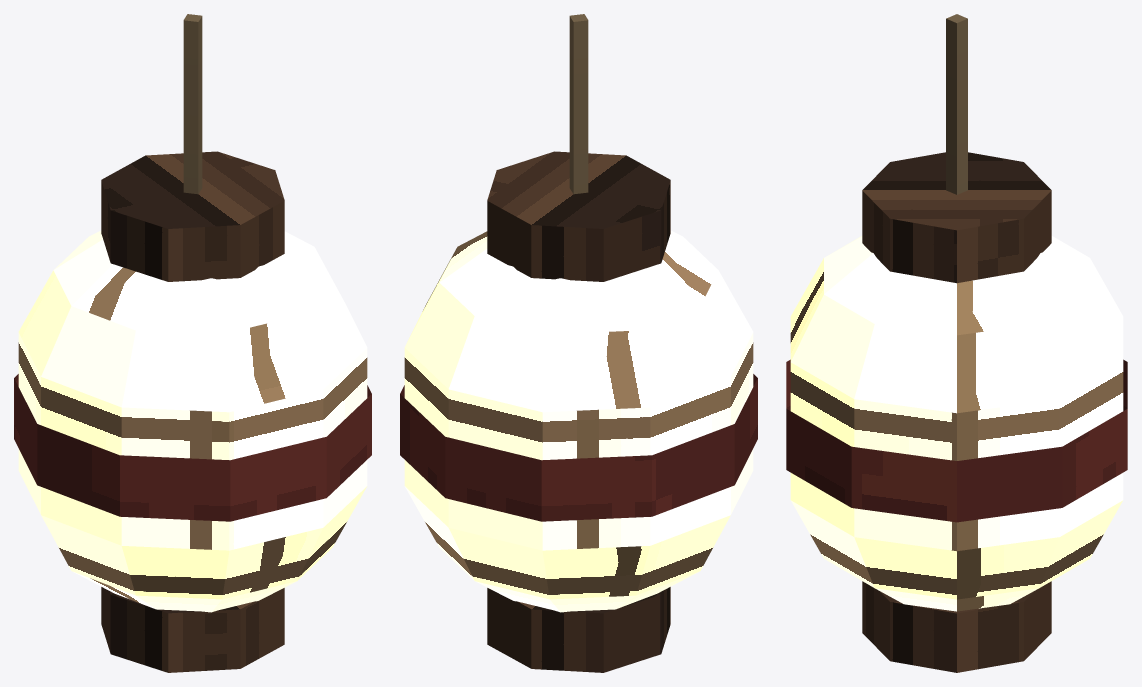
File: JP_Prop_LanternHanging_A.glb
3 renders of one model, left to right at view 1: azimuth 30°, elevation 25°; view 2: azimuth 150°, elevation 25°; view 3: azimuth 270°, elevation 25°, orthographic.
Parts seen in each view (by area): view 1: JP_Prop_LanternHanging_A; view 2: JP_Prop_LanternHanging_A; view 3: JP_Prop_LanternHanging_A.
Boxes of the visible parts, x1=… form: JP_Prop_LanternHanging_A: x1=14, y1=14, x2=371, y2=672; JP_Prop_LanternHanging_A: x1=400, y1=14, x2=757, y2=672; JP_Prop_LanternHanging_A: x1=786, y1=14, x2=1127, y2=672.
Size of the model in its own units: 0.492 by 0.93 by 0.4679.
4 materials, 4 textured.
